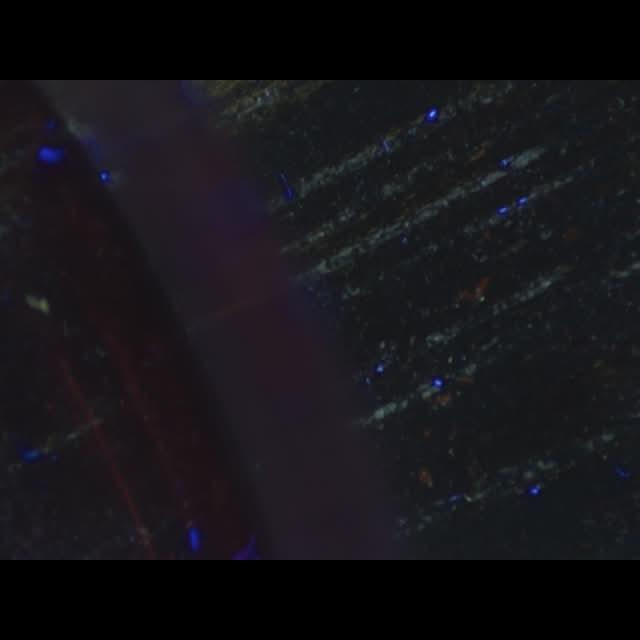microbeads: (26, 294, 50, 316)
